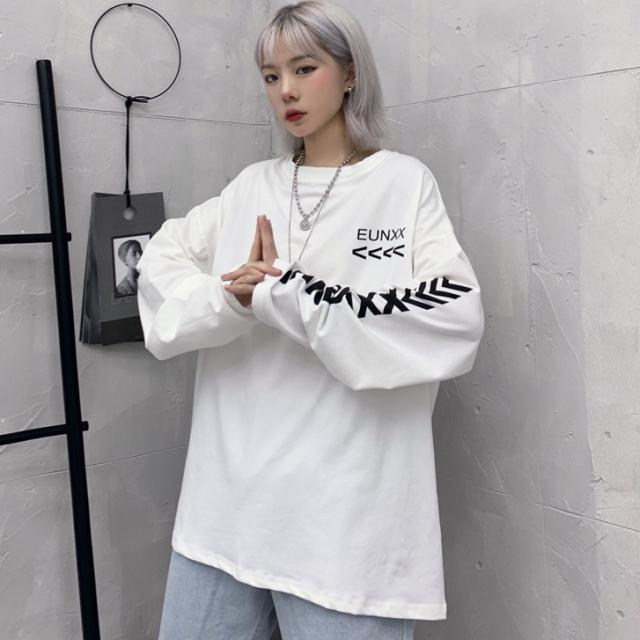Shirt: (134, 152, 486, 624)
